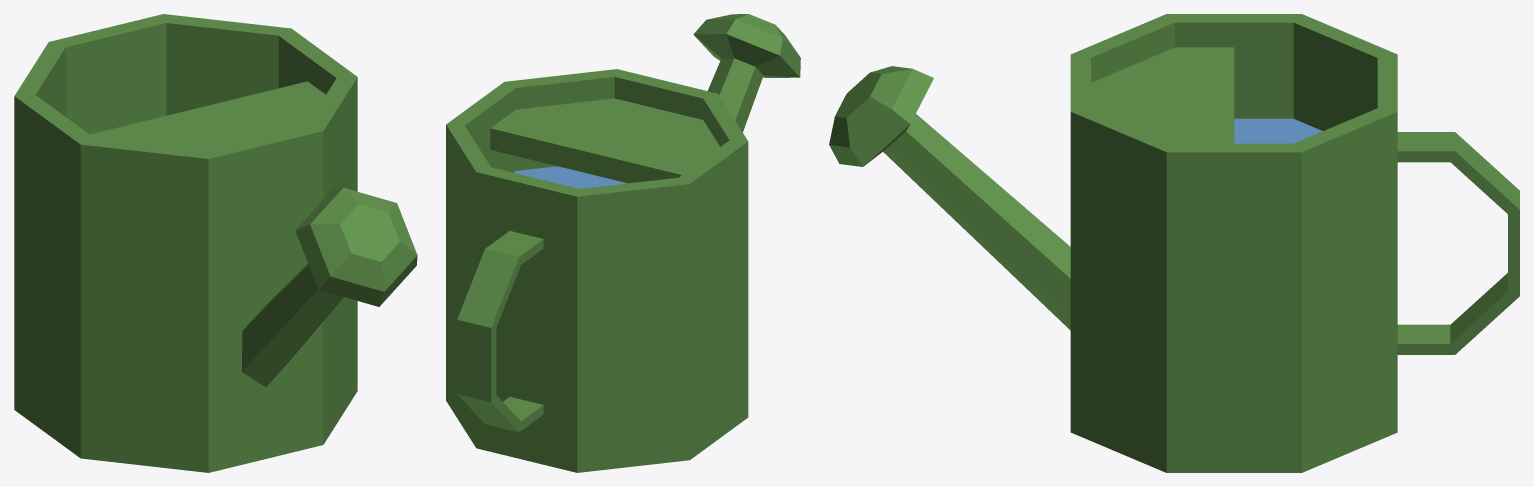
The model's file is WateringCan.fbx.
3 renders of one model, left to right at view 1: azimuth 30°, elevation 25°; view 2: azimuth 150°, elevation 25°; view 3: azimuth 270°, elevation 25°, orthographic. The views are drawn at different scales.
Parts seen in each view (by area): view 1: WateringCan; view 2: WateringCan; view 3: WateringCan.
Part boxes in pixels (<box>): WateringCan: <box>14,14,417,472</box>; WateringCan: <box>446,14,800,472</box>; WateringCan: <box>829,14,1519,472</box>.
Size of the model in its own units: 0.4619 by 0.5223 by 0.9759.
